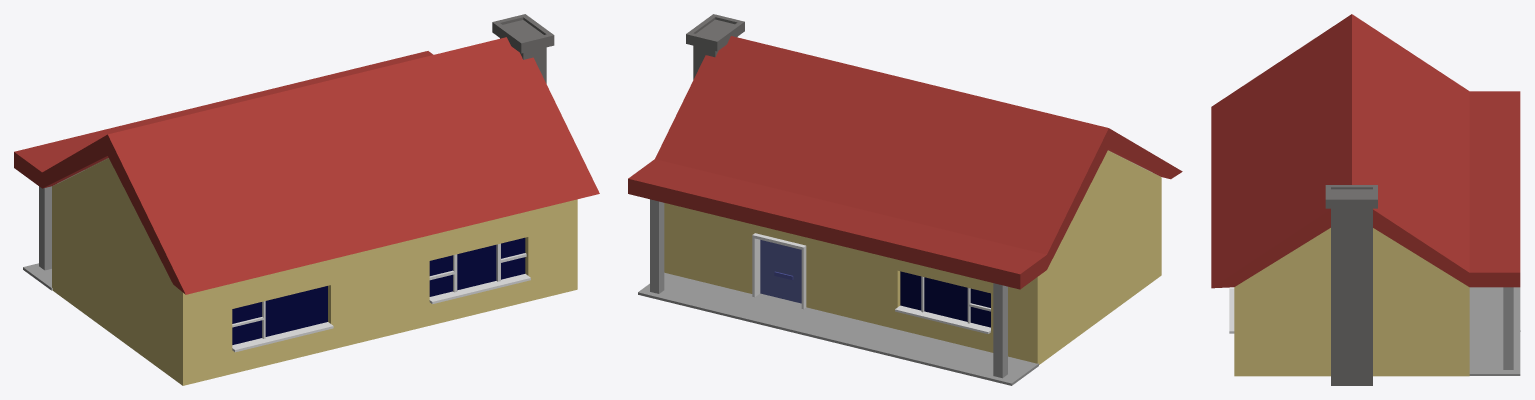
The model's file is House1.fbx.
The picture shows the model from 3 angles, left to right: view 1: azimuth 30°, elevation 25°; view 2: azimuth 150°, elevation 25°; view 3: azimuth 270°, elevation 25°; orthographic projection. The views are drawn at different scales.
Visible parts, largest first — view 1: Cube; view 2: Cube; view 3: Cube.
Boxes of the visible parts, bbox=[...] form: Cube: bbox=[14, 14, 599, 385]; Cube: bbox=[628, 14, 1182, 385]; Cube: bbox=[1211, 14, 1520, 385].
Size of the model in its own units: 883 by 411 by 609.
